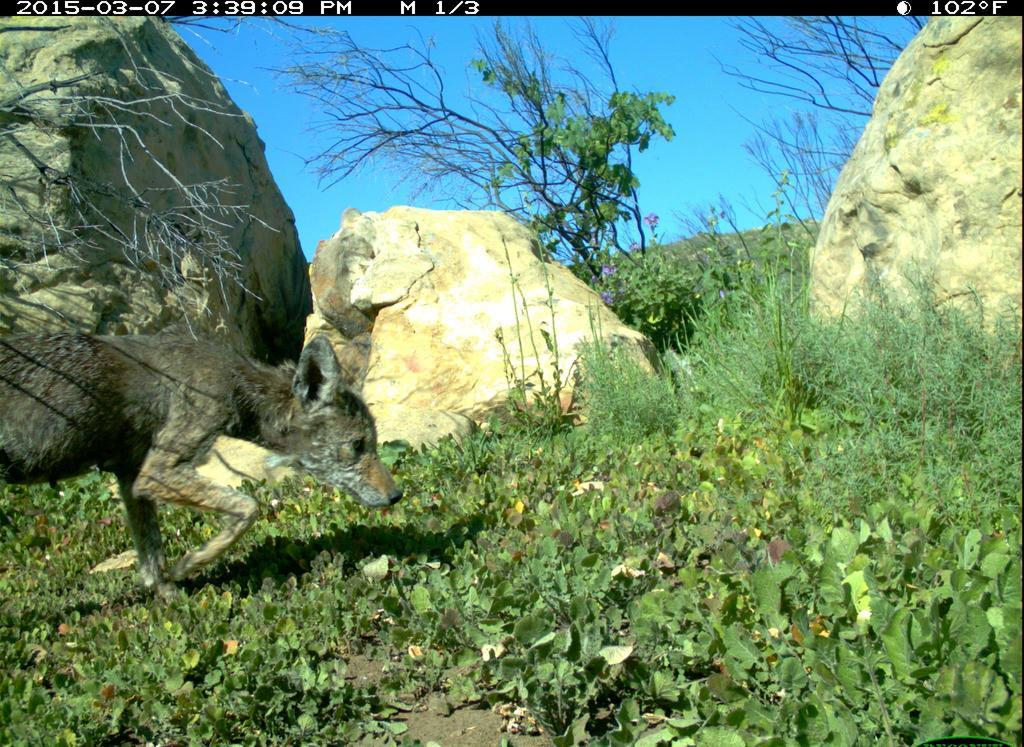coyote: (4, 326, 409, 609)
